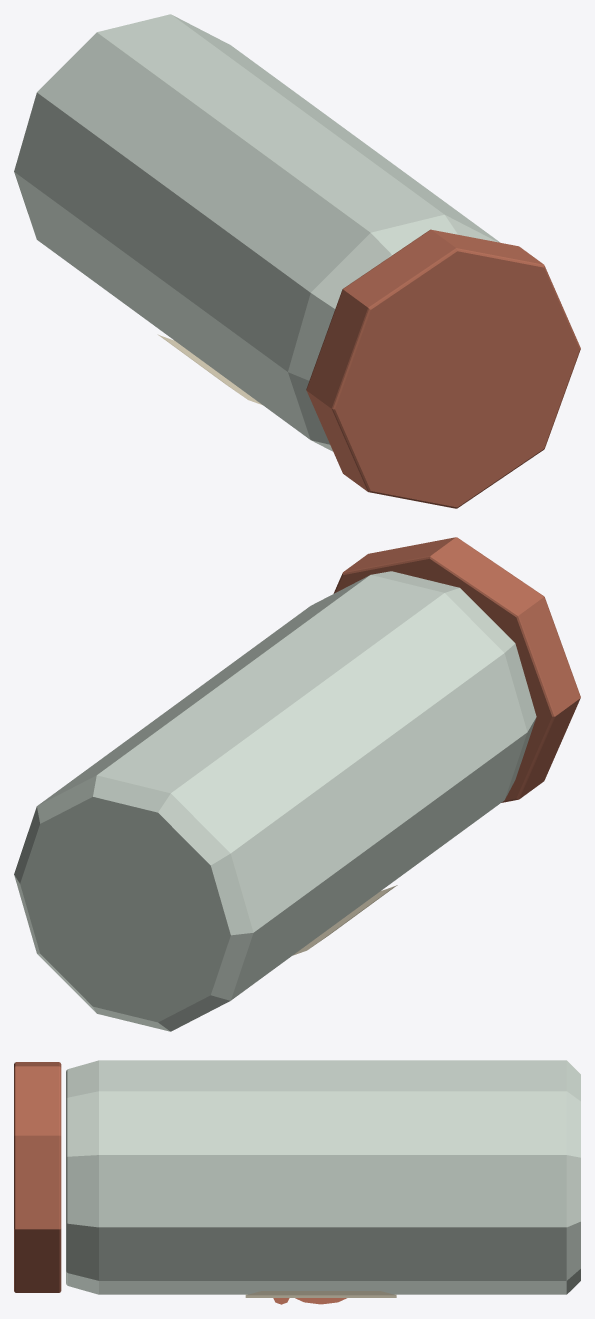
File: paprika.glb
The picture shows the model from 3 angles, top to bottom: view 1: azimuth 30°, elevation 25°; view 2: azimuth 150°, elevation 25°; view 3: azimuth 270°, elevation 25°; orthographic projection. The views are drawn at different scales.
Visible parts, largest first — view 1: paprika; view 2: paprika; view 3: paprika.
Boxes of the visible parts, <box> form: paprika: <box>14,14,580,508</box>; paprika: <box>14,537,580,1031</box>; paprika: <box>14,1060,580,1304</box>.
Bounding box in the file's own units: 0.052 × 0.0526 × 0.12.
